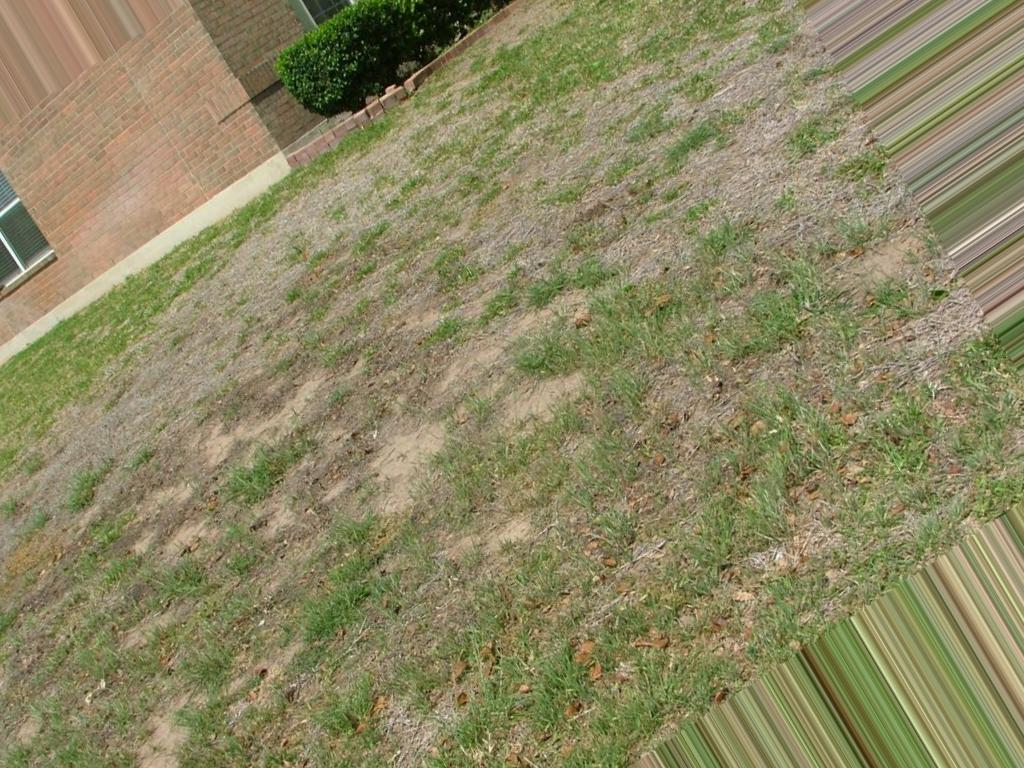patch: (337, 431, 492, 522), (204, 382, 346, 469), (130, 495, 207, 565), (845, 236, 937, 290)
